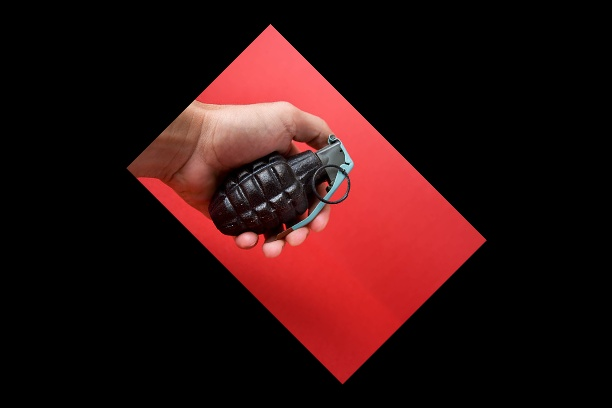e1: (207, 133, 356, 236)
